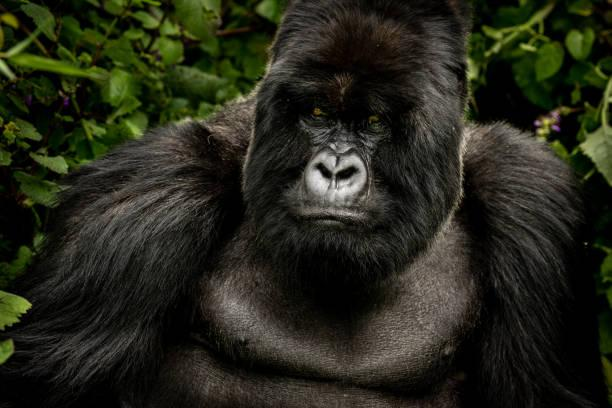goriile_montagne: (32, 0, 612, 402)
